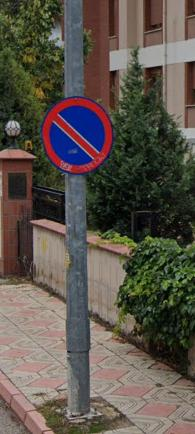nopark: (45, 100, 122, 182)
